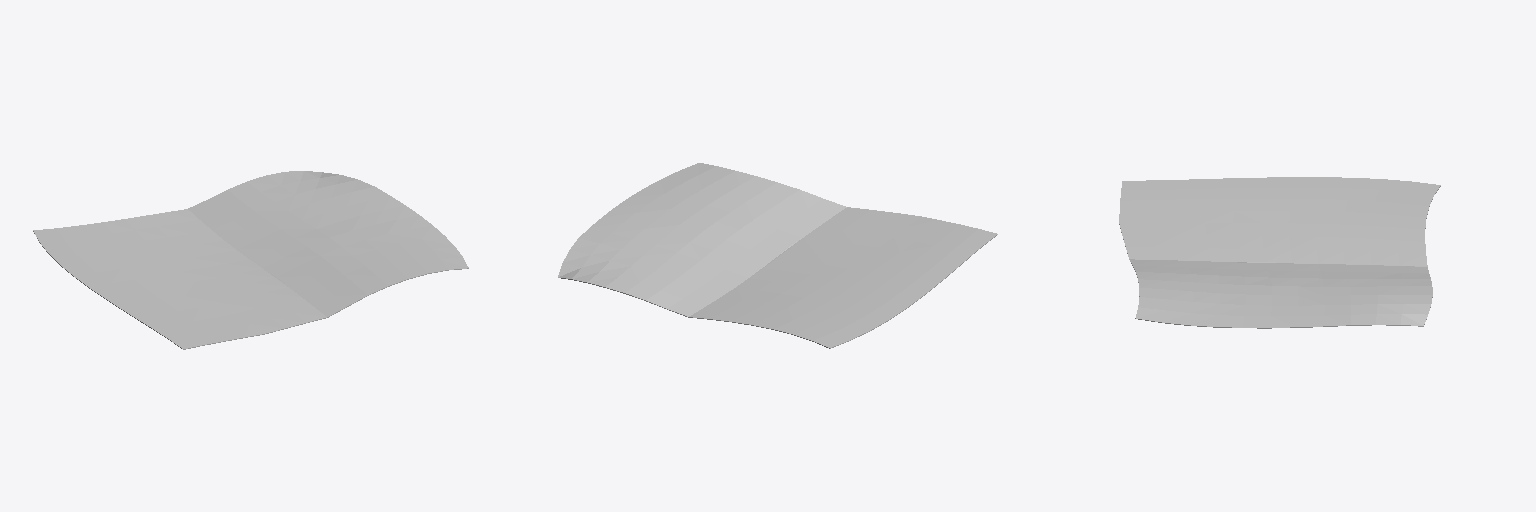
Rendered from page-turn-2.obj.
3 views of the same model, side by side, from view 1: azimuth 30°, elevation 25°; view 2: azimuth 150°, elevation 25°; view 3: azimuth 270°, elevation 25° (orthographic).
Parts seen in each view (by area): view 1: Plane; view 2: Plane; view 3: Plane.
Boxes of the visible parts, box(x1,y1,x2,y2) form: Plane: box(33, 171, 468, 349); Plane: box(558, 163, 997, 348); Plane: box(1119, 177, 1440, 328).
Size of the model in its own units: 2.34 by 0.1261 by 2.05.